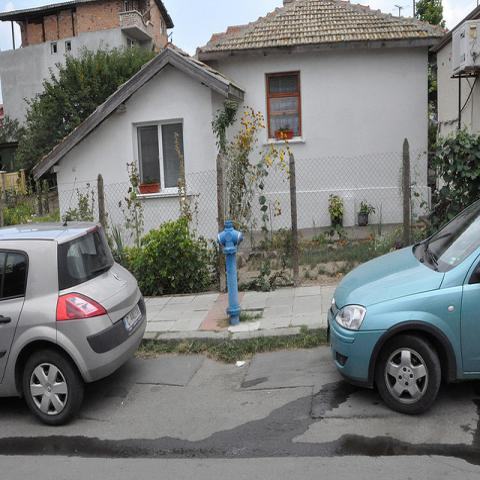car: (329, 198, 479, 411), (0, 221, 151, 431)
